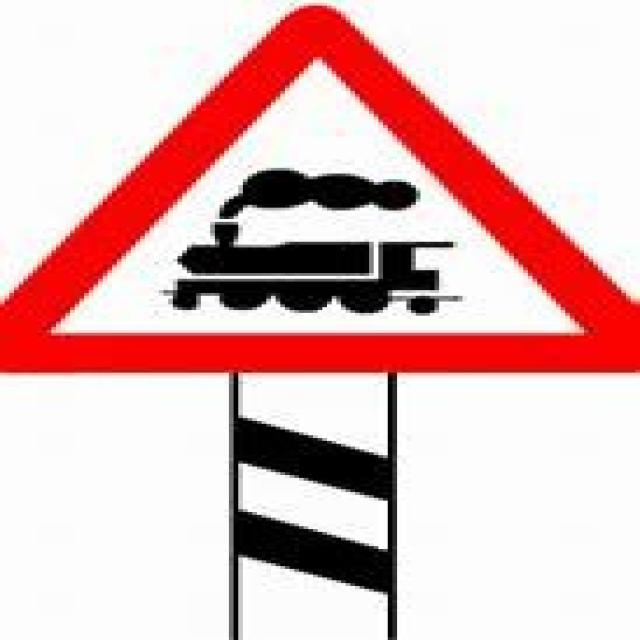unguarded level crossing: (24, 11, 626, 371)
